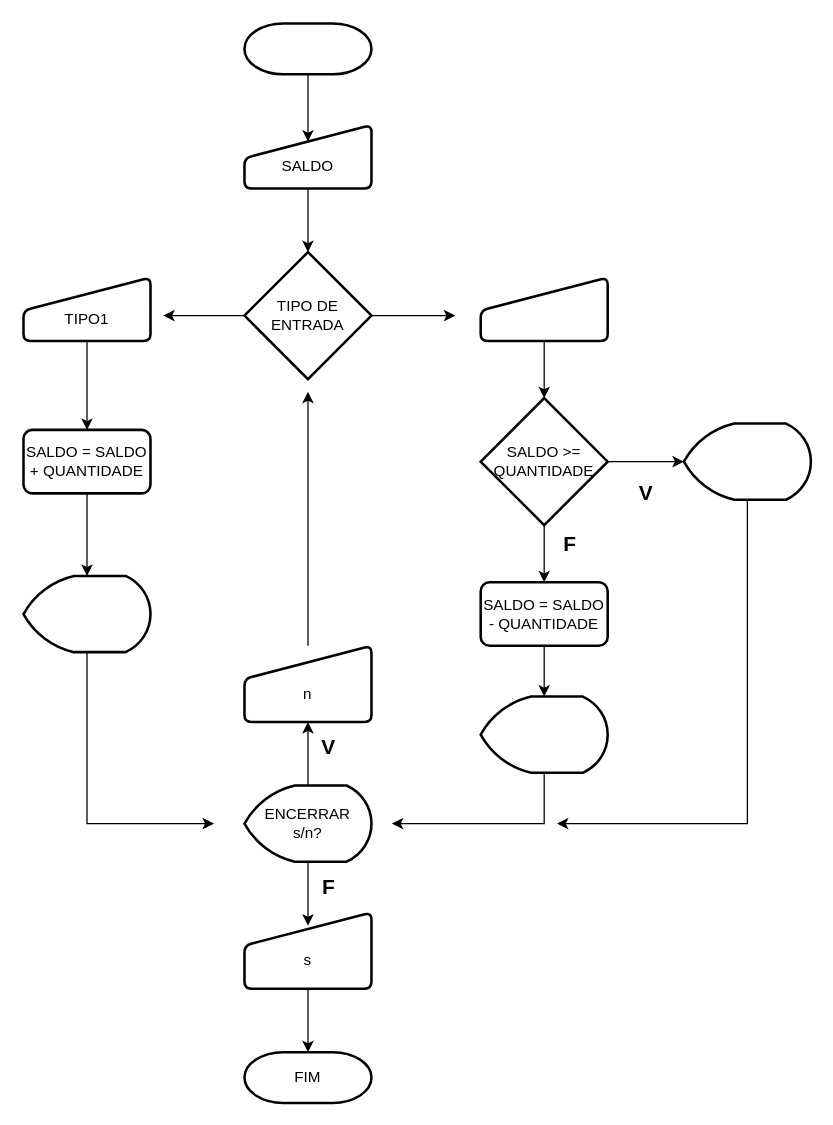
This 833x1125 diagram has some shape labels left out. The box of each missing label's shape, as (x1, y1, x2, y2) in pixels:
+ QUANTIDADE: (22, 574, 151, 653)
- QUANTIDADE: (479, 695, 608, 773)
INÍCIO: (243, 22, 372, 75)
SALDO INSUFICIENTE: (682, 422, 812, 500)
TIPO2: (479, 276, 608, 342)
